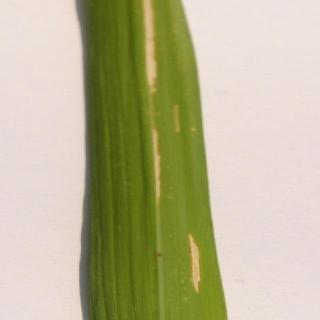Hawar-Daun: (122, 0, 236, 320)
